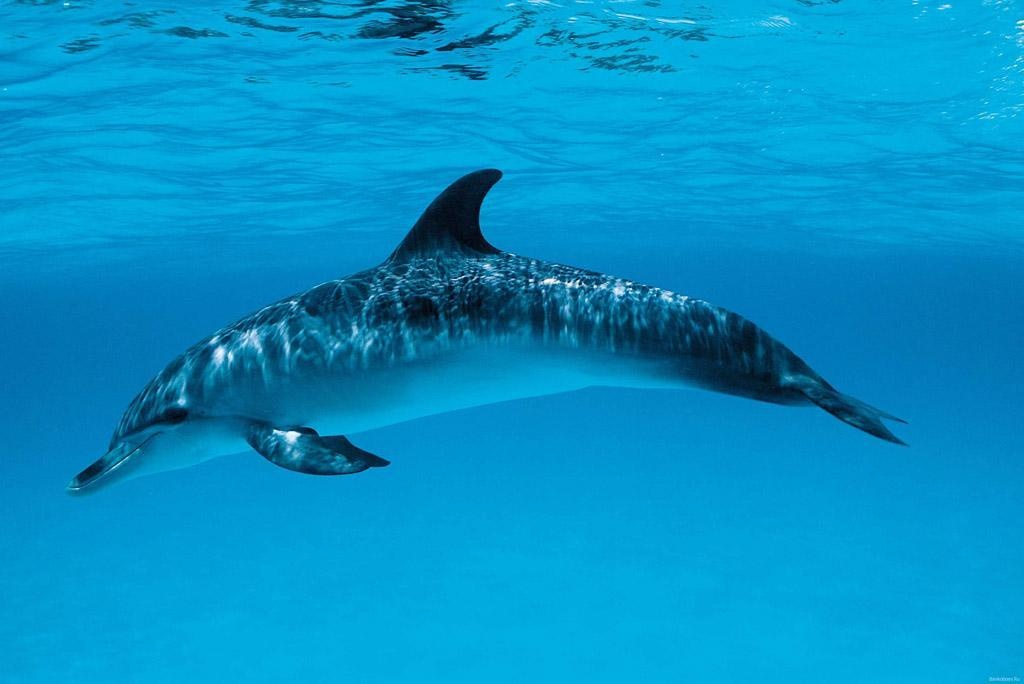fish: (54, 169, 915, 506)
